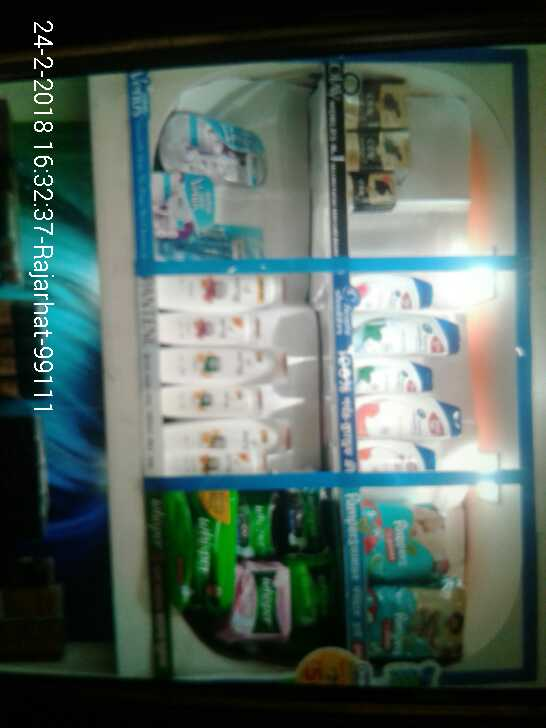venus: (165, 121, 271, 171), (156, 231, 265, 261), (155, 177, 221, 224)
